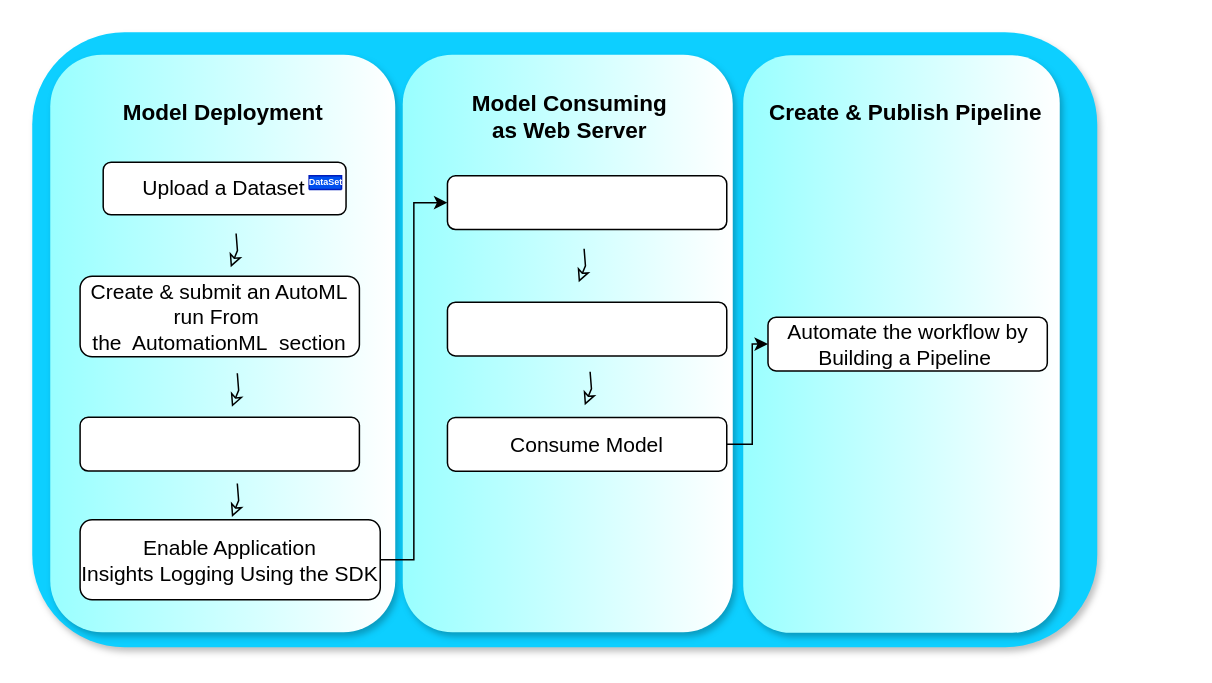
This 1212x683 diagram has some shape labels left out. Here are the shapes that lost their labels. From the top down, the centre of each, then its label:
At pixel 586 202: "Configure and run an Swagger_UI(OpenApi)".
At pixel 586 328: "Configure Swagger UI(OpenApi)".
At pixel 219 443: "Deploy Best Model".
